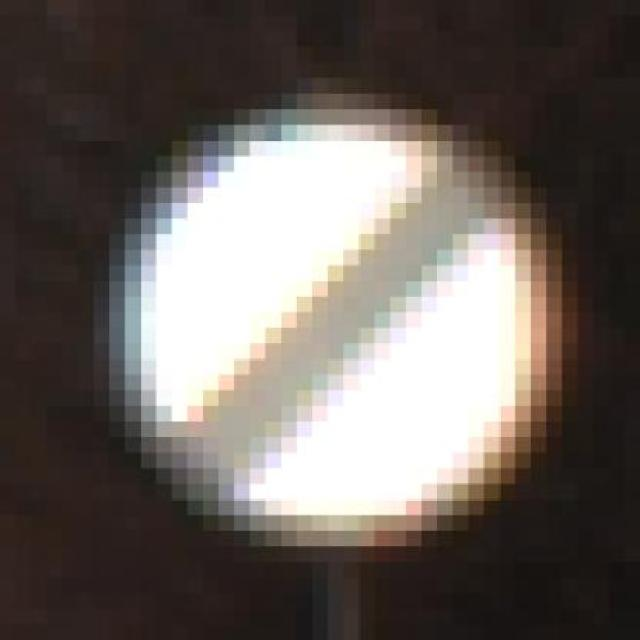End of all speed and passing limits: (78, 94, 593, 546)
